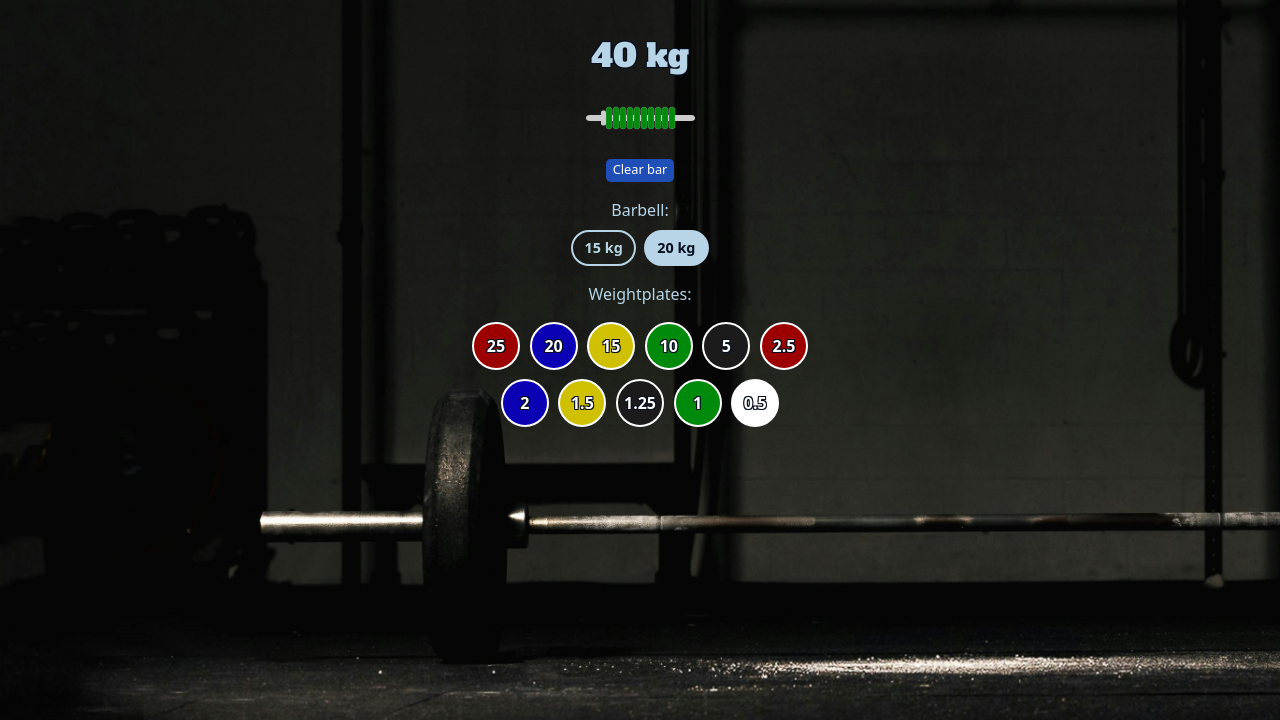
Test: FreeCalc › plate limit › shows an error and does not add a plate when the bar is full
Click the button named "add 20 kg plate" at {"x": 554, "y": 346}, box [530, 322, 578, 370]
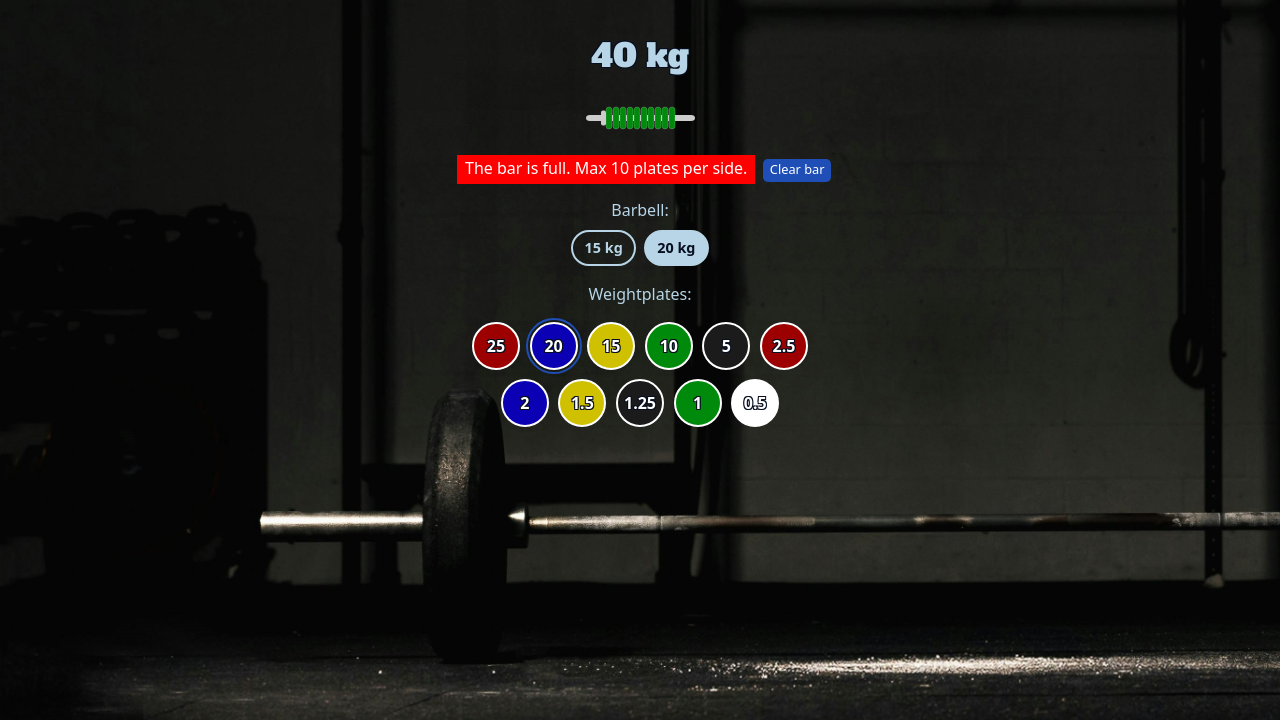
Expected: the text "40 kg" is shown, [591, 34, 689, 78]
Expected: the message shows "bar is full", [465, 157, 611, 179]
